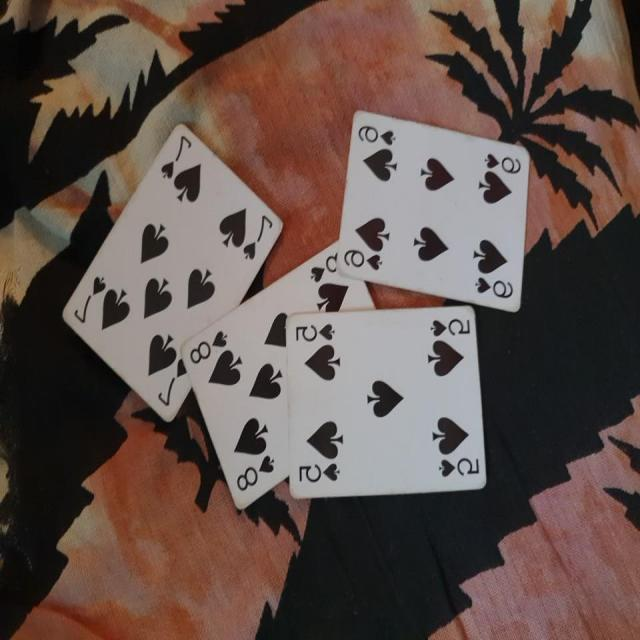5 of spades: (282, 304, 488, 504)
6 of spades: (332, 96, 543, 316)
7 of spades: (52, 120, 286, 427)
8 of spades: (180, 235, 387, 513)
